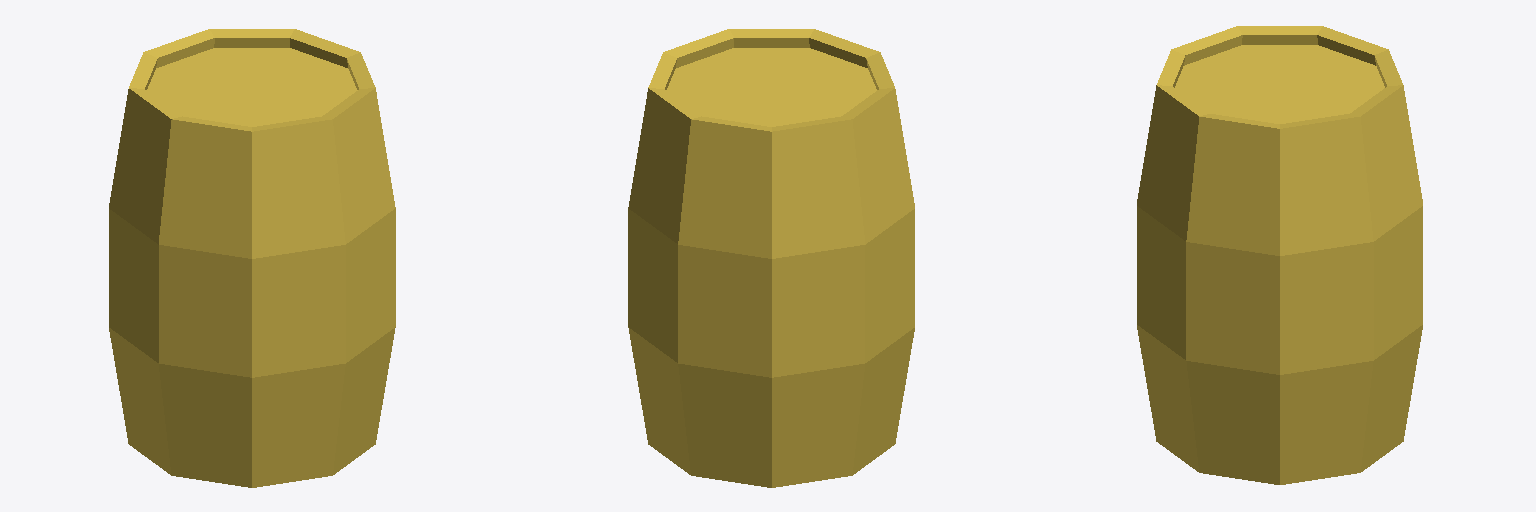
Rendered from barrel3.obj.
3 views of the same model, side by side, from view 1: azimuth 30°, elevation 25°; view 2: azimuth 150°, elevation 25°; view 3: azimuth 270°, elevation 25° (orthographic).
Parts seen in each view (by area): view 1: barrel3; view 2: barrel3; view 3: barrel3.
Boxes of the visible parts, box(x1,y1,x2,y2) form: barrel3: box(109, 29, 395, 487); barrel3: box(628, 29, 914, 487); barrel3: box(1137, 26, 1422, 484).
Bounding box in the file's own units: 0.7235 × 1.01 × 0.7347.